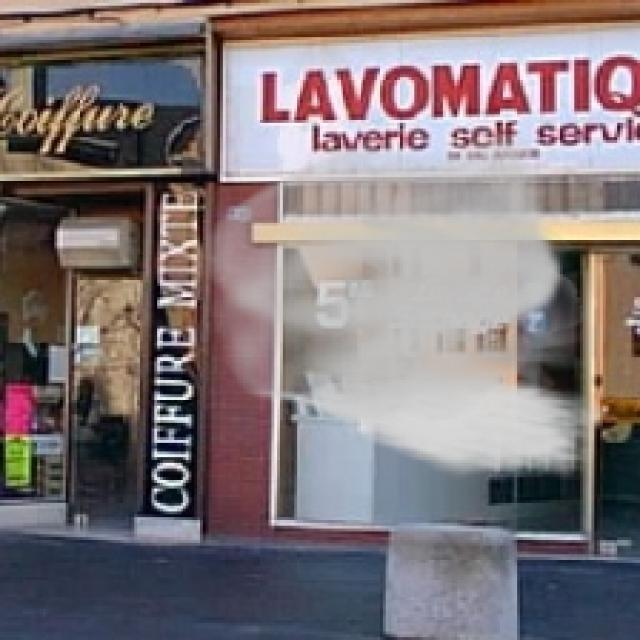smoke: (192, 131, 612, 480)
